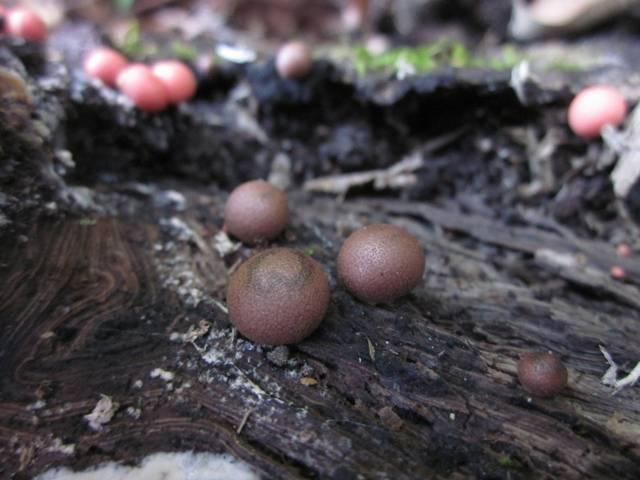Non-edible Mushroom: (6, 0, 187, 108), (225, 245, 330, 346), (335, 222, 425, 304), (221, 177, 289, 245), (566, 83, 627, 138), (516, 349, 568, 398), (274, 39, 313, 80)
